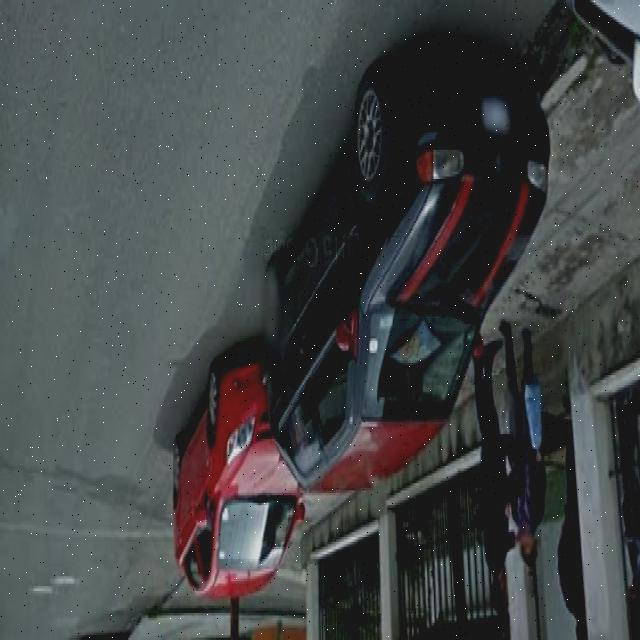car: (264, 64, 539, 466), (174, 349, 280, 602)
